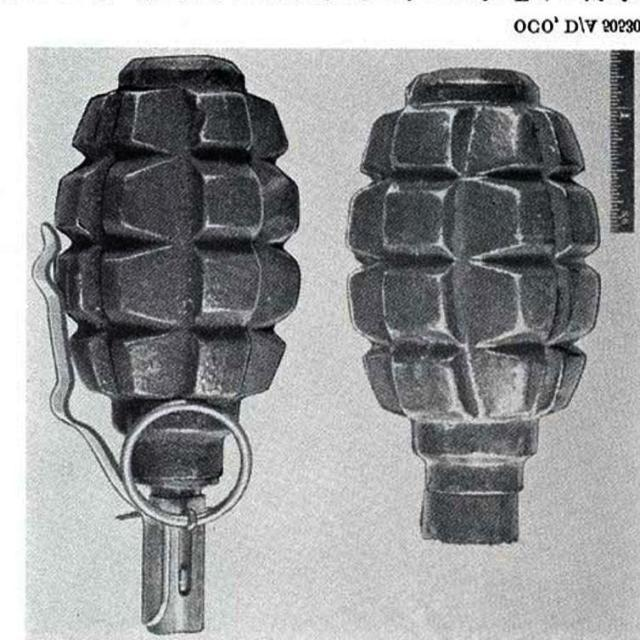grenade: (32, 56, 302, 635), (345, 69, 604, 547)
